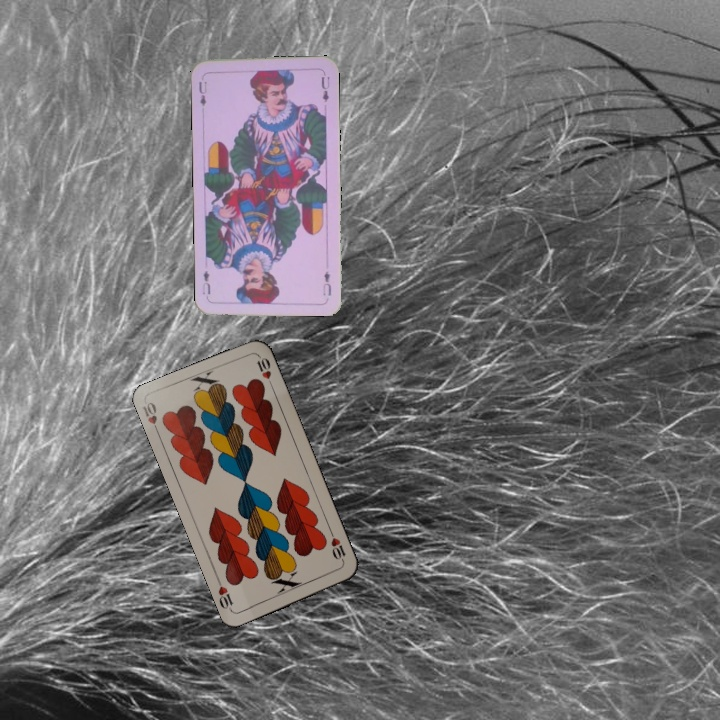EU: (318, 267, 334, 298), (195, 77, 209, 109)
H10: (138, 398, 162, 438), (326, 527, 348, 566)
